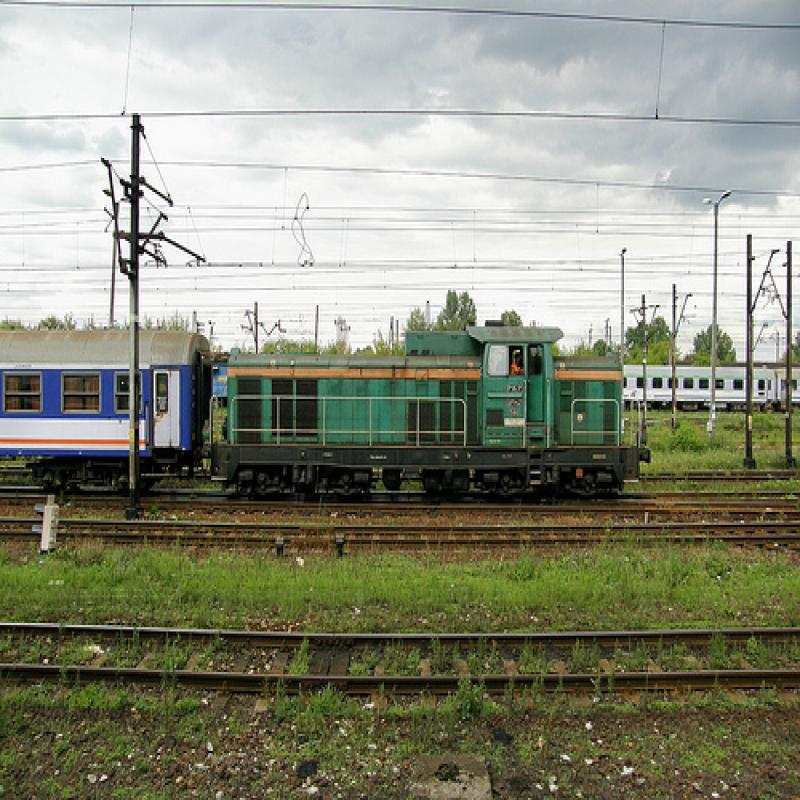train: (3, 325, 659, 507), (625, 368, 800, 413)
